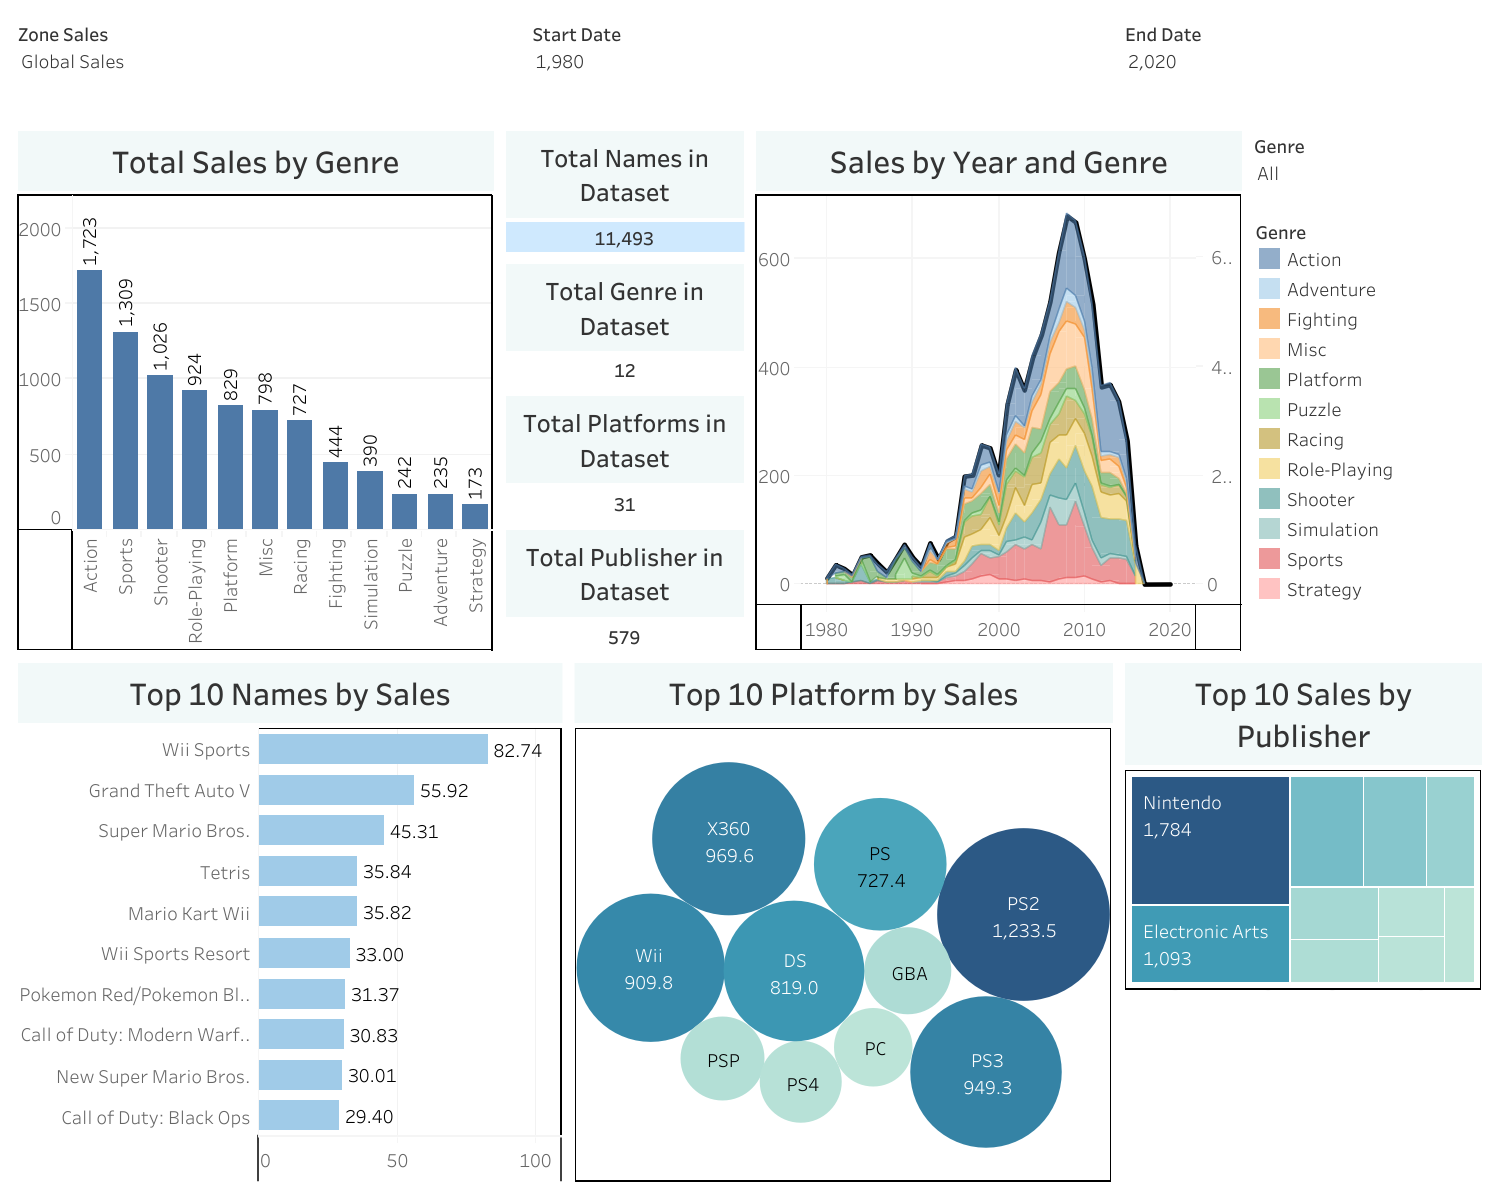

The dashboard page shown, as its layout file describes it:
{"tool":"tableau","page":{"name":"Dashboard 1","canvas":[1000,800],"ordinal":0},"visuals":[{"type":"parameter","param":"[Parameters].[Parameter 1]","box":[8,8,343,75]},{"type":"parameter","param":"[Parameters].[Parameter 2]","box":[351,8,395,75]},{"type":"parameter","param":"[Parameters].[Parameter 3]","box":[746,8,246,75]},{"type":"worksheet","title":"Total Sales by Genre","mark":"Automatic","rows":["Calculation_0014372506837580"],"cols":["Genre"],"box":[8,83,325,354.5]},{"type":"worksheet","title":"Total Names in Datasets","mark":"Automatic","box":[333,83,167,88.6]},{"type":"worksheet","title":"Sales by Years","mark":"Automatic","rows":["Calculation_0014372506837580","Calculation_0014372506837580"],"cols":["Year"],"box":[500,83,332,354.5]},{"type":"filter","title":"Sales by Years","param":"[federated.0jhjiw00s3day212kcacu1k5pgen].[none:Genre:nk]","box":[832,83,160,56]},{"type":"legend","title":"Sales by Years","param":"[federated.0jhjiw00s3day212kcacu1k5pgen].[none:Genre:nk]","box":[832,139,160,267]},{"type":"worksheet","title":"Total Genre in Datasets","mark":"Automatic","box":[333,171.6,167,88.6]},{"type":"worksheet","title":"Total Platform in Datasets","mark":"Automatic","box":[333,260.3,167,88.6]},{"type":"worksheet","title":"Total Publisher in Datasets","mark":"Automatic","box":[333,348.9,167,88.6]},{"type":"legend","title":"Top 10 Platform","param":"[federated.0jhjiw00s3day212kcacu1k5pgen].[sum:Calculation_0014372506837580:qk]","box":[832,406,160,22]},{"type":"worksheet","title":"Top 10 Names","mark":"Automatic","rows":["Name"],"cols":["Calculation_0014372506837580"],"box":[8,437.5,371,354.5]},{"type":"worksheet","title":"Top 10 Platform","mark":"Circle","box":[379,437.5,367,354.5]},{"type":"worksheet","title":"Top 10 Publisher","mark":"Automatic","box":[746,437.5,246,354.5]}]}

Visuals, with their boxes in screenshot pixels (x1, y1, x2, y2), scaled from the page's 1000x800 canvas onto the 1499x1199 screenshot:
parameter: locate(12, 12, 526, 124)
parameter: locate(526, 12, 1118, 124)
parameter: locate(1118, 12, 1487, 124)
"Total Sales by Genre" worksheet: locate(12, 124, 499, 656)
"Total Names in Datasets" worksheet: locate(499, 124, 750, 257)
"Sales by Years" worksheet: locate(750, 124, 1247, 656)
"Sales by Years" filter: locate(1247, 124, 1487, 208)
"Sales by Years" legend: locate(1247, 208, 1487, 608)
"Total Genre in Datasets" worksheet: locate(499, 257, 750, 390)
"Total Platform in Datasets" worksheet: locate(499, 390, 750, 523)
"Total Publisher in Datasets" worksheet: locate(499, 523, 750, 656)
"Top 10 Platform" legend: locate(1247, 608, 1487, 641)
"Top 10 Names" worksheet: locate(12, 656, 568, 1187)
"Top 10 Platform" worksheet (Circle marks): locate(568, 656, 1118, 1187)
"Top 10 Publisher" worksheet: locate(1118, 656, 1487, 1187)
